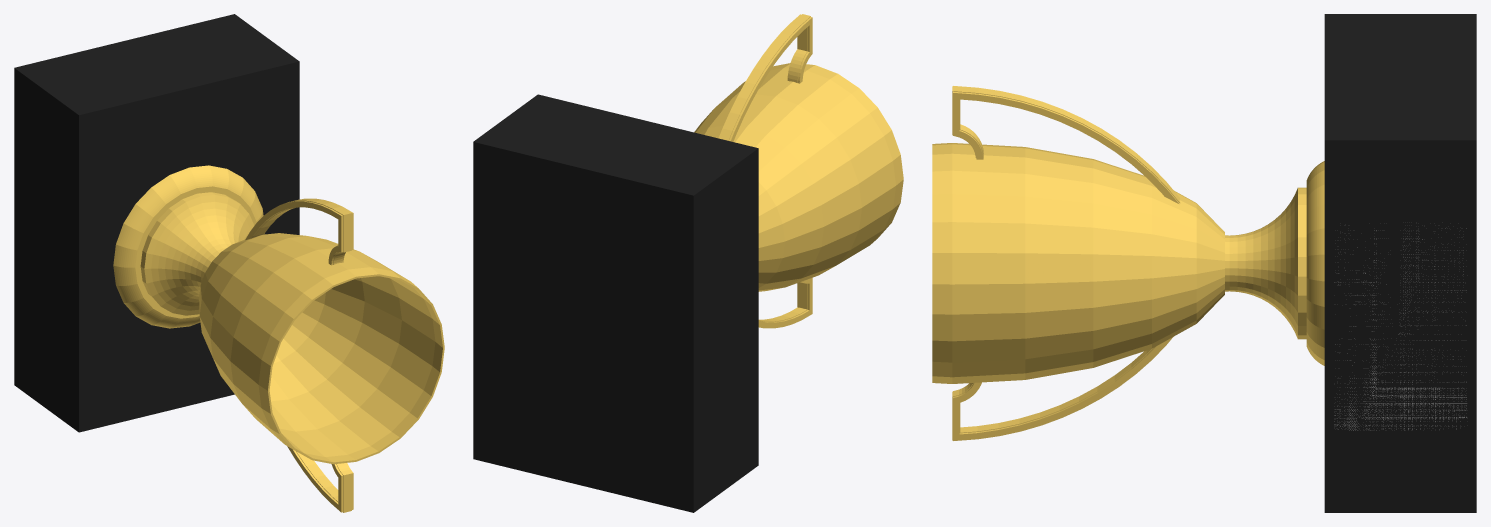
3 renders of one model, left to right at view 1: azimuth 30°, elevation 25°; view 2: azimuth 150°, elevation 25°; view 3: azimuth 270°, elevation 25°, orthographic. The views are drawn at different scales.
Parts seen in each view (by area): view 1: basic generic trophy; view 2: basic generic trophy; view 3: basic generic trophy.
Part boxes in pixels (x1,y1,x2,y2): basic generic trophy: [14, 14, 444, 512]; basic generic trophy: [473, 14, 903, 512]; basic generic trophy: [932, 14, 1476, 512].
Size of the model in its own units: 134 by 184 by 244.
